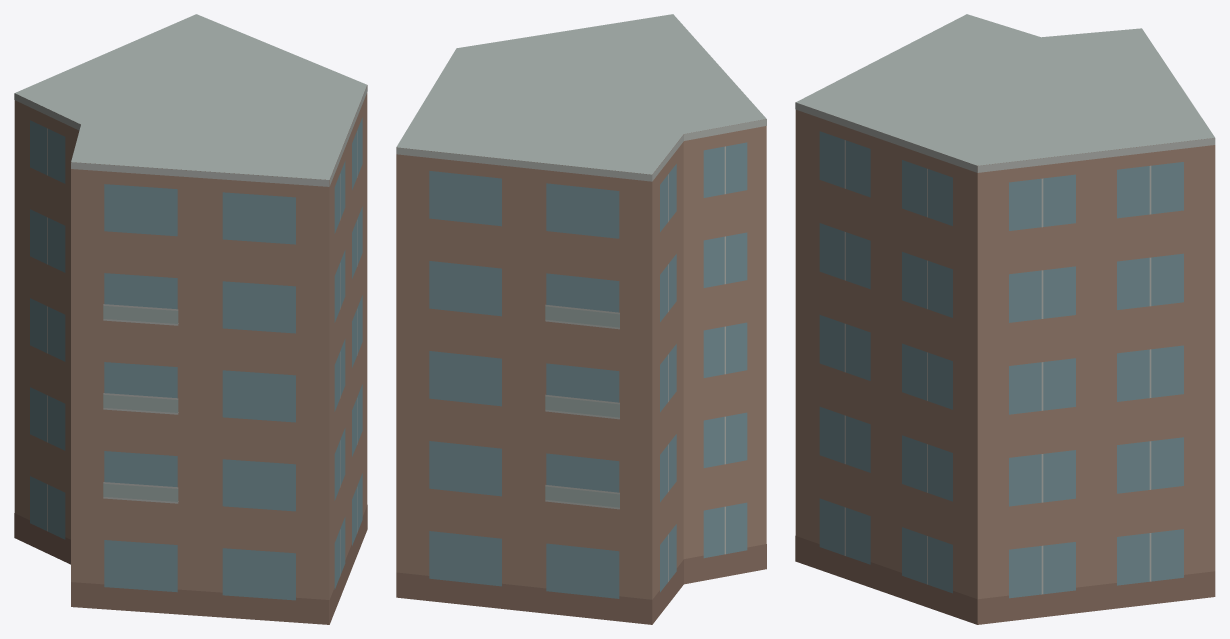
File: survey-upis-32722635.glb
3 views of the same model, side by side, from view 1: azimuth 30°, elevation 25°; view 2: azimuth 150°, elevation 25°; view 3: azimuth 270°, elevation 25° (orthographic). The views are drawn at different scales.
Visible parts, largest first — view 1: survey-upis-32722635.tmp; view 2: survey-upis-32722635.tmp; view 3: survey-upis-32722635.tmp.
Boxes of the visible parts, box(x1,y1,x2,y2) form: survey-upis-32722635.tmp: box(14, 14, 367, 624); survey-upis-32722635.tmp: box(396, 14, 766, 624); survey-upis-32722635.tmp: box(795, 14, 1215, 624).
Size of the model in its own units: 11.14 by 15.7 by 13.02.
